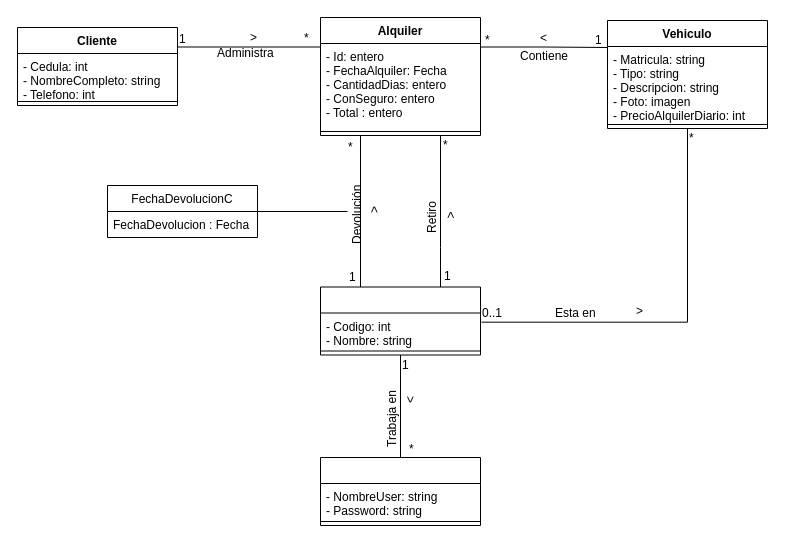
The diagram is 785 pixels wide and 543 high, and some of its shapes have lost their labels. Here are the shapes that lost their labels. From the top down, the box of each, then its label:
(320, 286, 480, 355): Sucursal
(320, 456, 480, 526): Empleado
